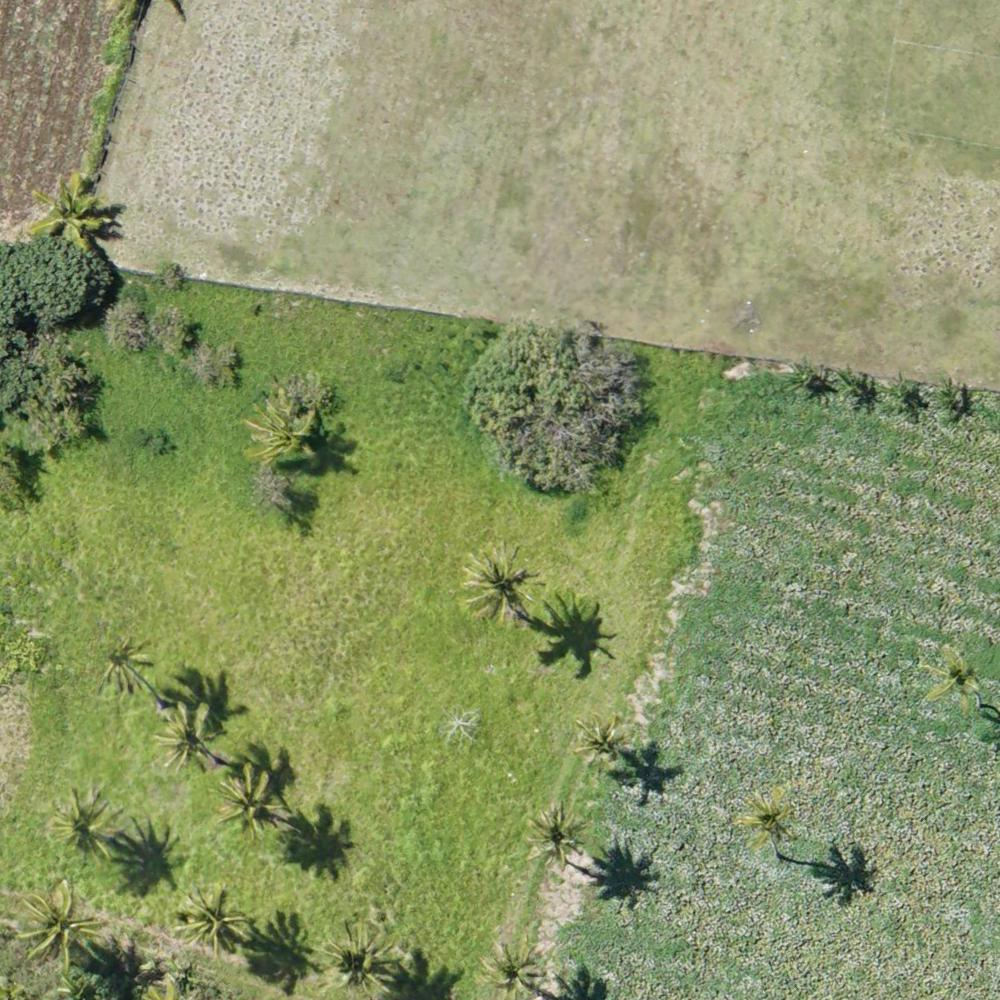Palm: (15, 883, 104, 973), (456, 543, 542, 625), (245, 389, 322, 466), (320, 919, 398, 989), (153, 701, 228, 769), (50, 785, 119, 857), (34, 175, 107, 243), (175, 883, 246, 950), (216, 766, 285, 833), (476, 936, 550, 997), (919, 641, 988, 704), (732, 783, 799, 847), (571, 709, 639, 772), (521, 805, 586, 868), (96, 639, 154, 697)
